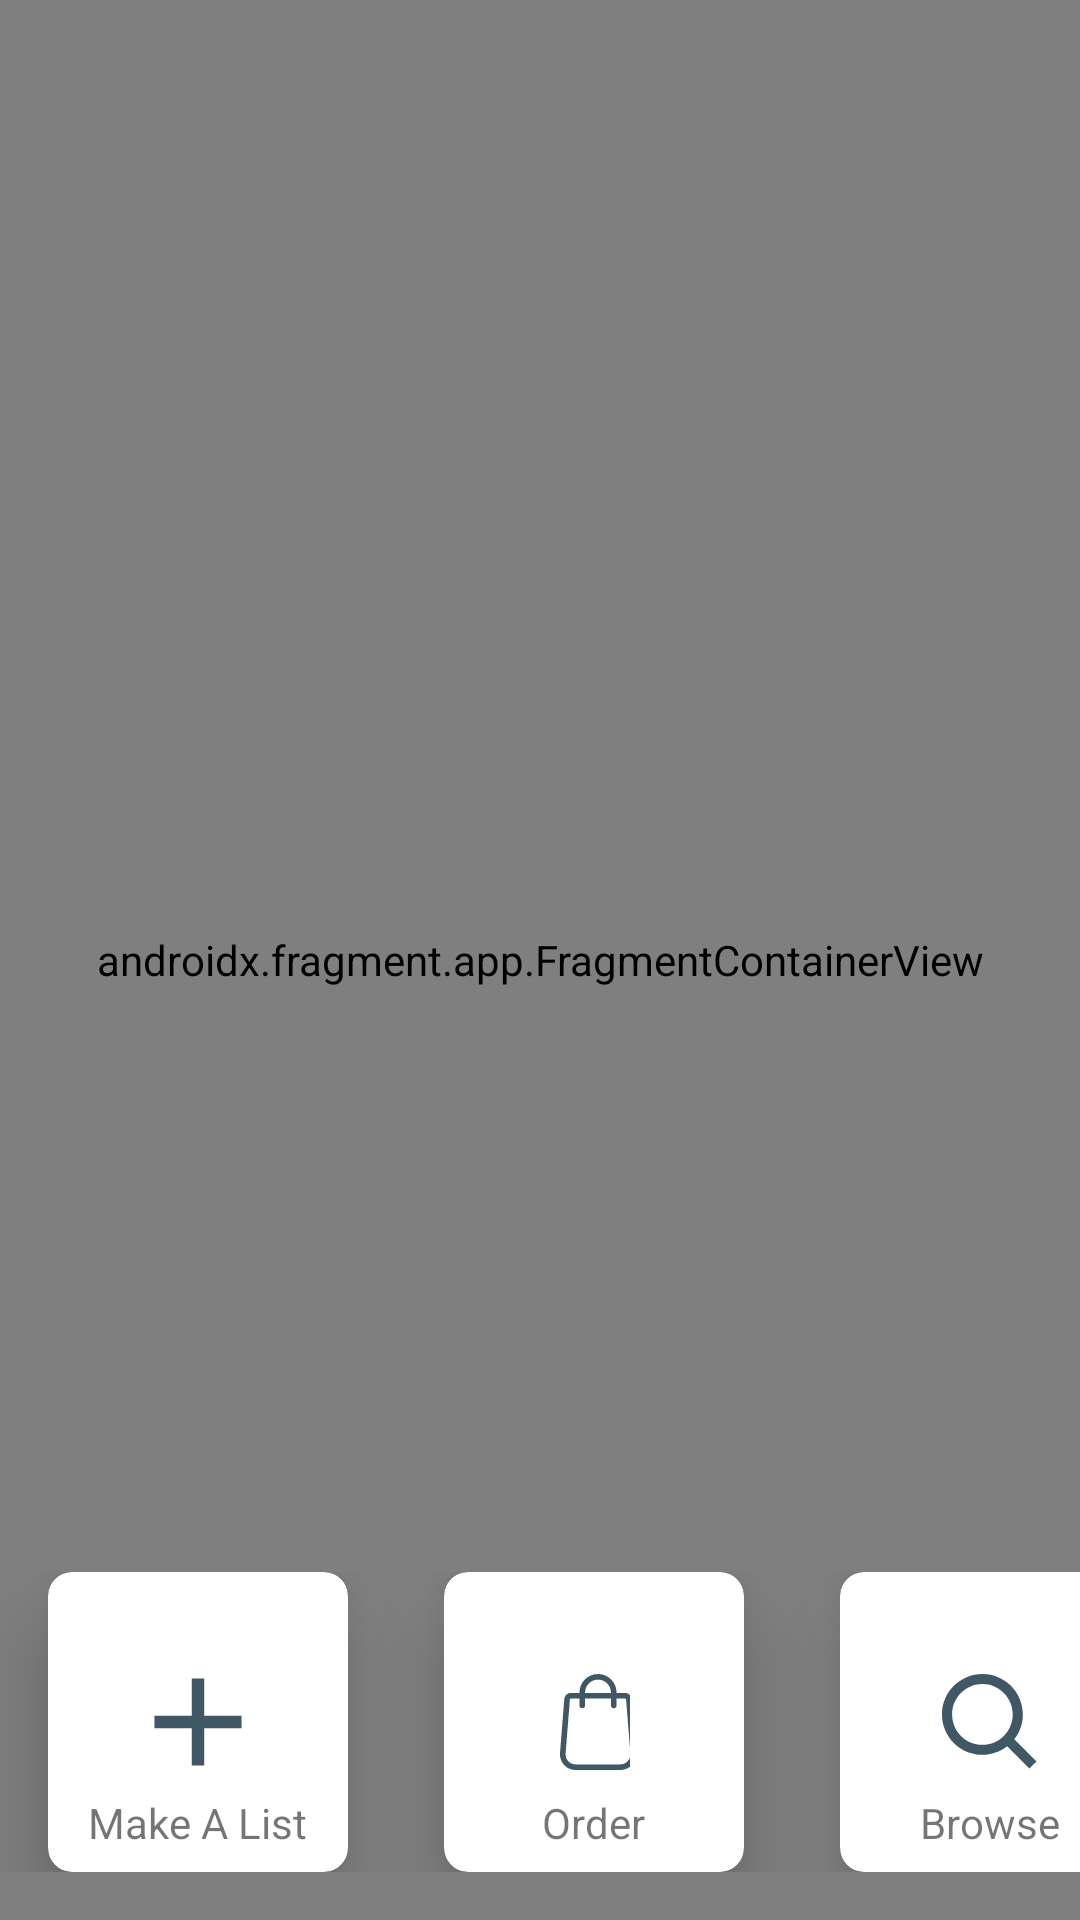

Icons on this 1080x1920 Android screen, each with its box as {"left": x1, "top": y1, "right": x2, "bottom": y2}:
add: {"left": 154, "top": 1678, "right": 242, "bottom": 1766}
